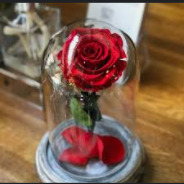RedRose: (58, 30, 125, 90)
